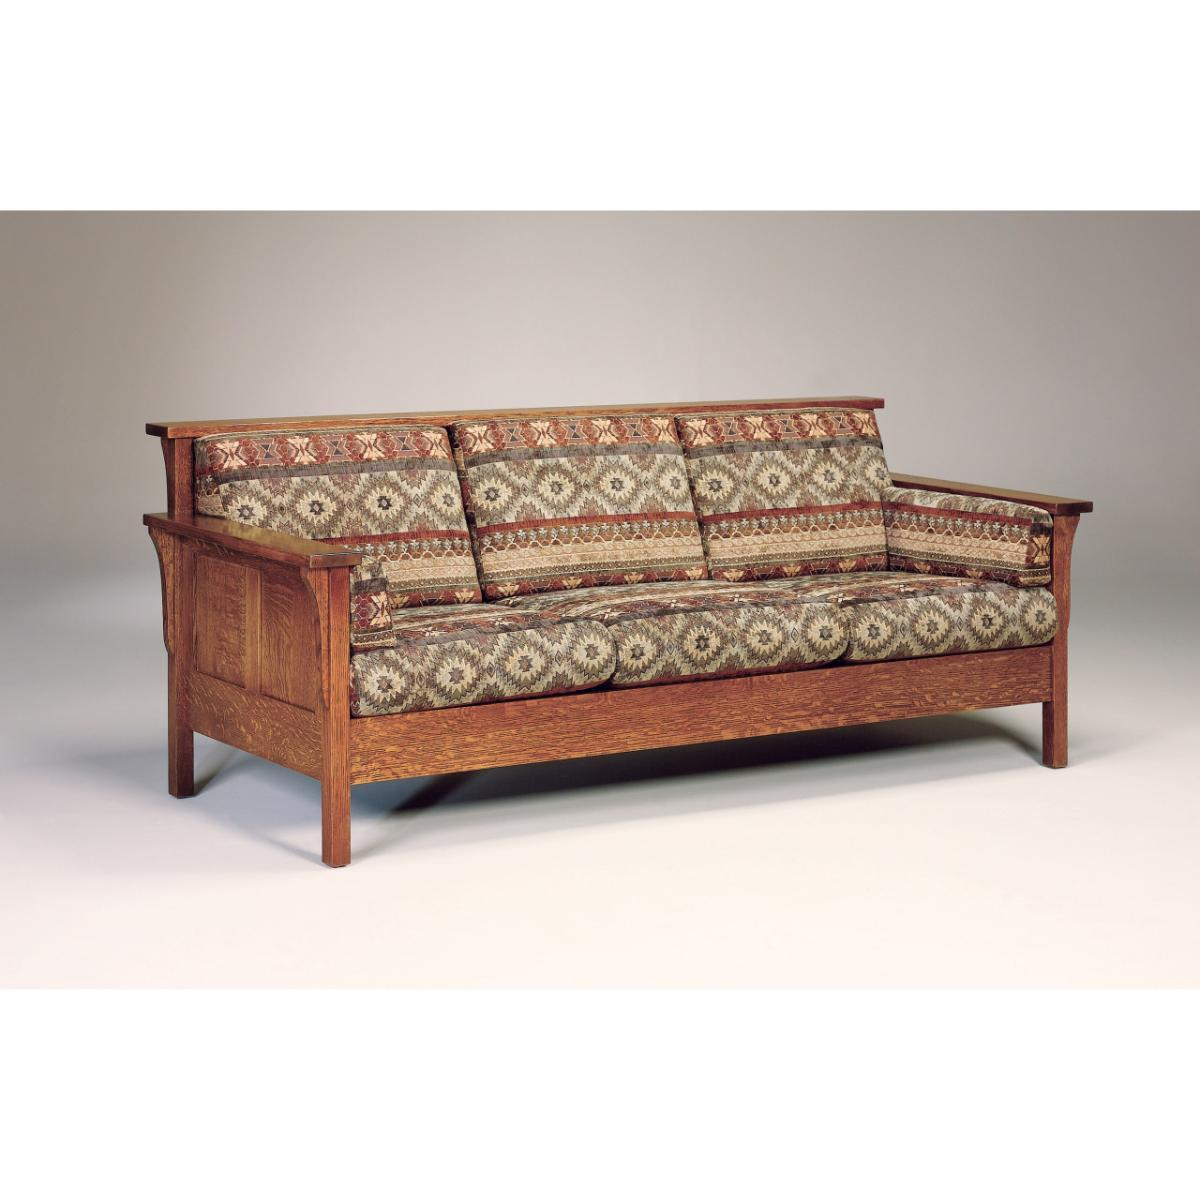Sofa: (144, 395, 1099, 867)
